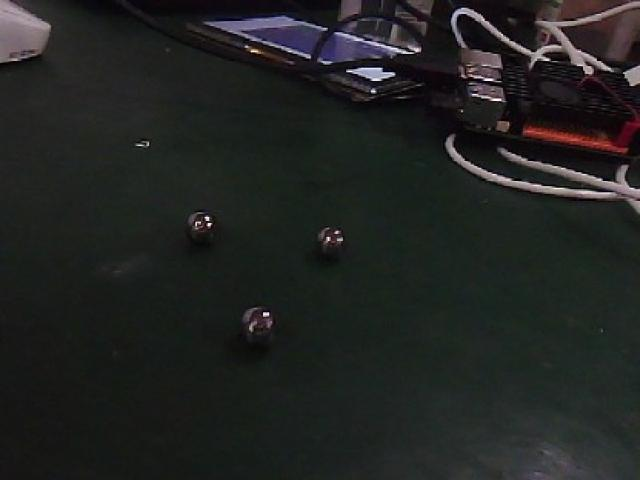steel-ball: (226, 286, 279, 345), (171, 194, 226, 246), (308, 217, 362, 266)
